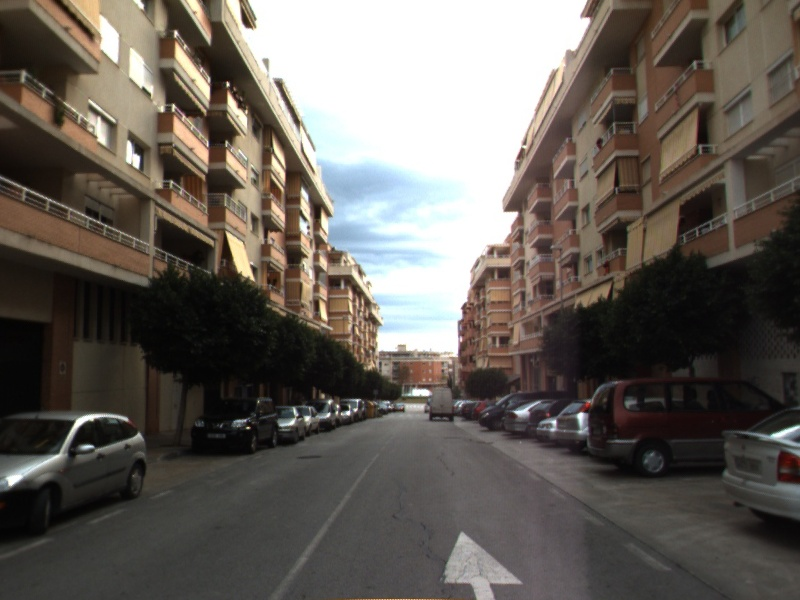STRAIGHT: (436, 528, 527, 600)
